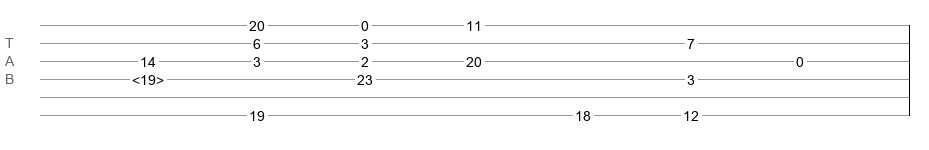0: (361, 18, 369, 28), (796, 54, 804, 64)
11: (466, 18, 482, 28)
12: (683, 108, 699, 118)
14: (140, 54, 156, 64)
18: (575, 108, 591, 118)
19: (249, 108, 265, 118)
2: (361, 54, 369, 64)
20: (249, 18, 265, 28), (466, 54, 482, 64)
23: (357, 72, 373, 82)
3: (253, 54, 261, 64), (361, 36, 369, 46), (687, 72, 695, 82)
6: (253, 36, 261, 46)
7: (687, 36, 695, 46)
harmonic: (132, 72, 164, 82)
